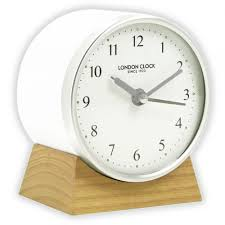alarm_clock: (15, 7, 208, 216)
